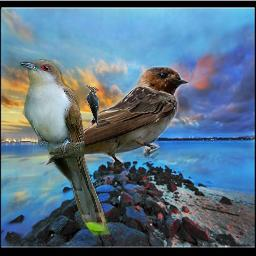Cuckoo: (19, 59, 110, 236)
Swallow: (41, 64, 189, 171)
Woodpecker: (84, 84, 99, 125)
